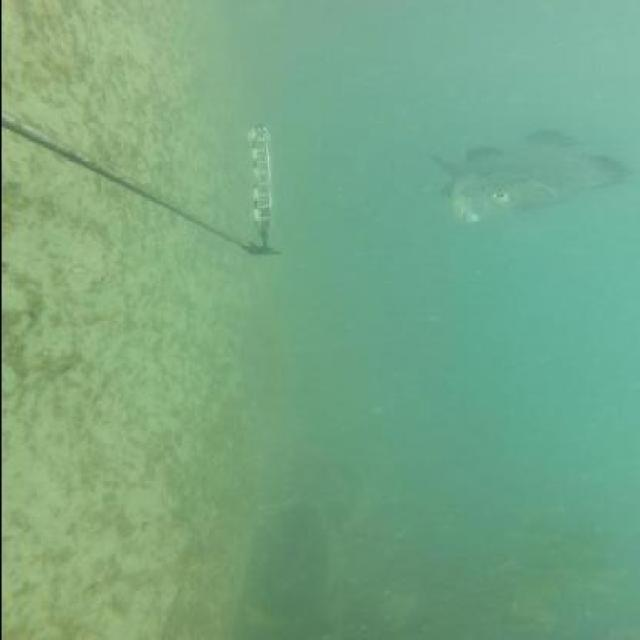acanthopagrus_palmaris: (423, 129, 629, 229)
